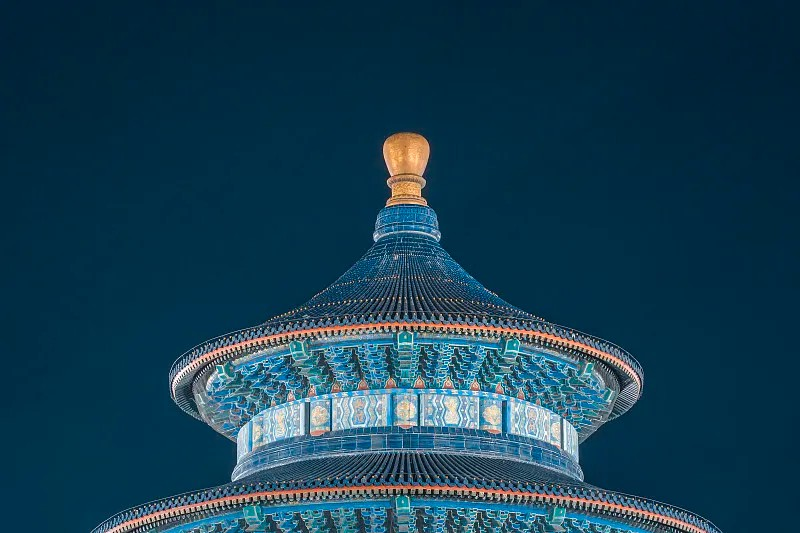Heaven: (88, 133, 725, 533)
